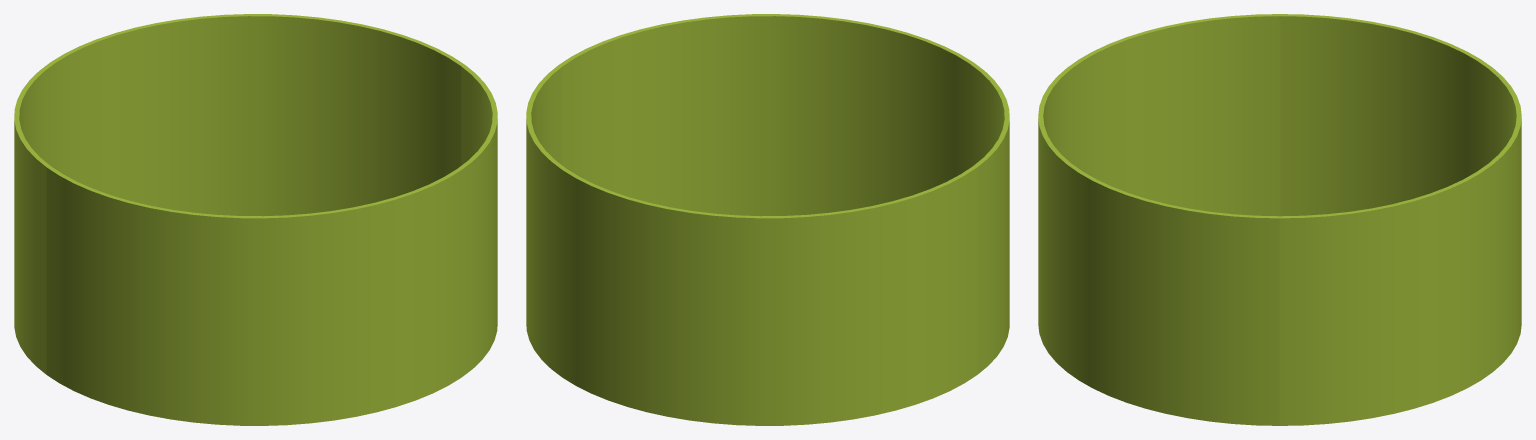
Rendered from seed_classification_unit_pressure.glb.
3 renders of one model, left to right at view 1: azimuth 30°, elevation 25°; view 2: azimuth 150°, elevation 25°; view 3: azimuth 270°, elevation 25°, orthographic.
Visible parts, largest first — view 1: pressure__front, pressure__back; view 2: pressure__back, pressure__front; view 3: pressure__back, pressure__front.
Boxes of the visible parts, x1=… form: pressure__front: x1=46, y1=65, x2=497, y2=425; pressure__back: x1=14, y1=14, x2=464, y2=374; pressure__back: x1=526, y1=65, x2=977, y2=425; pressure__front: x1=559, y1=14, x2=1009, y2=374; pressure__back: x1=1280, y1=14, x2=1521, y2=425; pressure__front: x1=1038, y1=14, x2=1279, y2=425.
Bounding box in the file's own units: 1.9 × 0.9 × 1.9.
